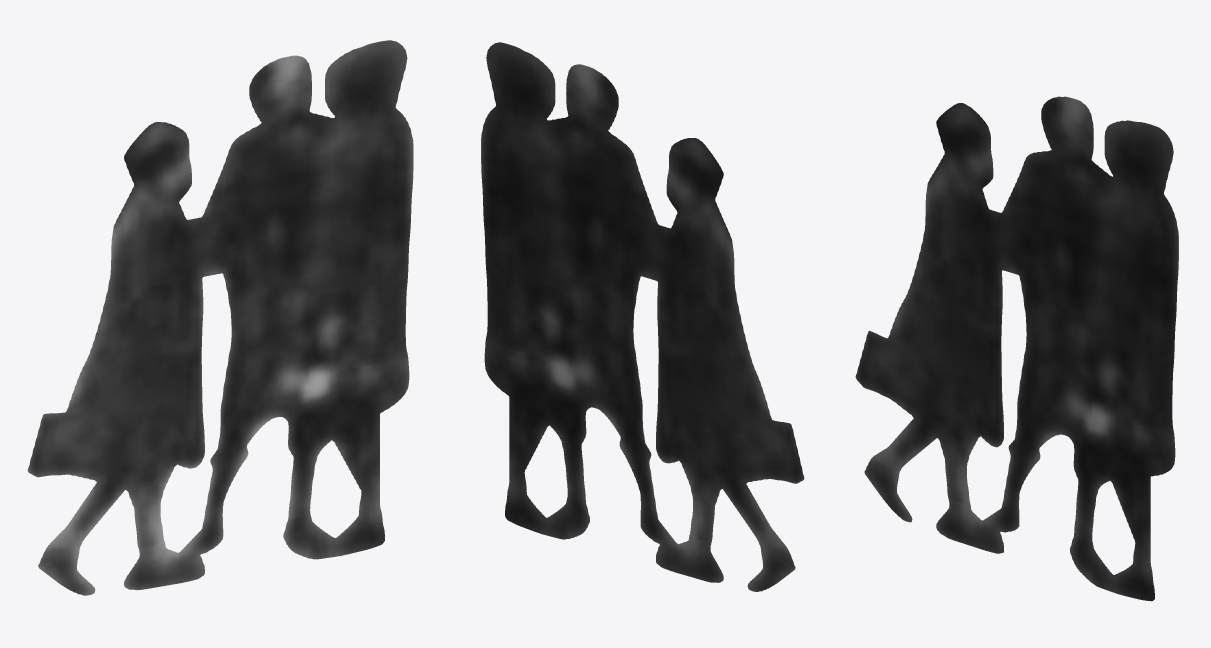
Rendered from teenagers.FBX.
3 renders of one model, left to right at view 1: azimuth 30°, elevation 25°; view 2: azimuth 150°, elevation 25°; view 3: azimuth 330°, elevation 25°, orthographic. The views are drawn at different scales.
Parts seen in each view (by area): view 1: teenagers; view 2: teenagers; view 3: teenagers.
Part boxes in pixels (left/top/right/bottom): teenagers: left=27, top=40, right=413, bottom=595; teenagers: left=481, top=42, right=804, bottom=591; teenagers: left=855, top=96, right=1178, bottom=601.
Bounding box in the file's own units: 153 × 200 × 16.15.
1 material, 1 textured.
